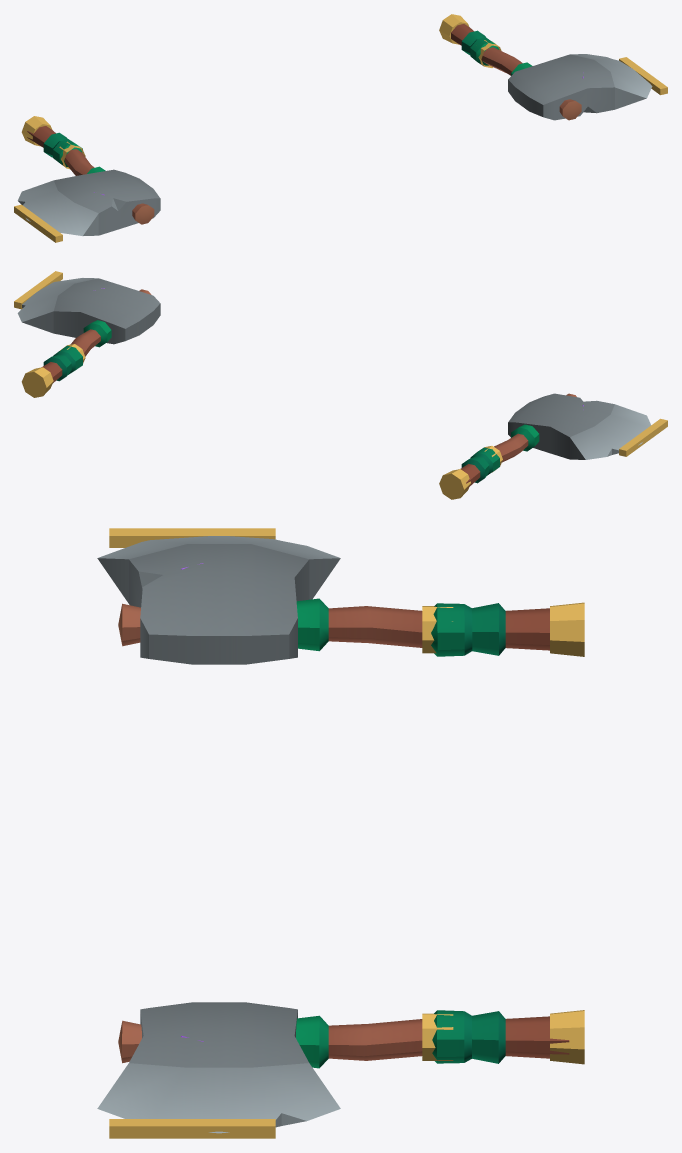
Rendered from berserker_axe_t3_epic.glb.
3 renders of one model, top to bottom at view 1: azimuth 30°, elevation 25°; view 2: azimuth 150°, elevation 25°; view 3: azimuth 270°, elevation 25°, orthographic. The views are drawn at different scales.
Visible parts, largest first — view 1: berserker_axe_t3_epic__handslot_l, berserker_axe_t3_epic__handslot_r; view 2: berserker_axe_t3_epic__handslot_r, berserker_axe_t3_epic__handslot_l; view 3: berserker_axe_t3_epic__handslot_l, berserker_axe_t3_epic__handslot_r.
Part boxes in pixels (bbox=[...]): berserker_axe_t3_epic__handslot_l: bbox=[439, 14, 667, 120]; berserker_axe_t3_epic__handslot_r: bbox=[14, 116, 160, 242]; berserker_axe_t3_epic__handslot_r: bbox=[439, 393, 667, 499]; berserker_axe_t3_epic__handslot_l: bbox=[14, 271, 160, 397]; berserker_axe_t3_epic__handslot_l: bbox=[97, 1002, 584, 1138]; berserker_axe_t3_epic__handslot_r: bbox=[97, 528, 584, 664].
Size of the model in its own units: 7.34 by 0.3699 by 2.52.
Materials: 4 (3 with a texture image).
